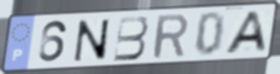0: (194, 10, 227, 58)
6: (38, 19, 68, 66)
A: (222, 10, 269, 56)
B: (112, 14, 150, 63)
N: (72, 18, 111, 63)
R: (151, 12, 190, 61)
